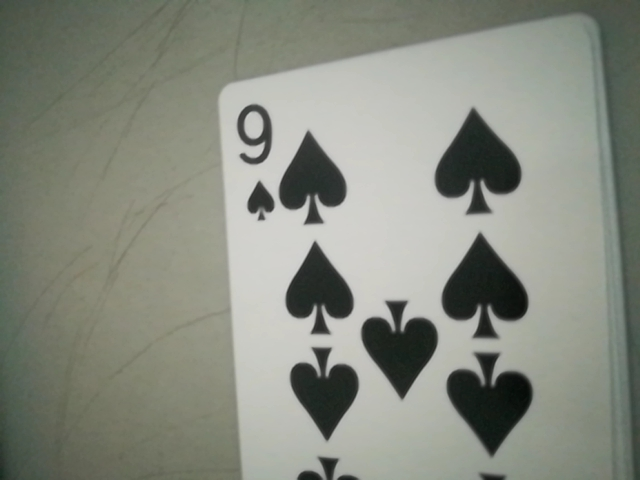ht 9: (224, 90, 293, 229)
